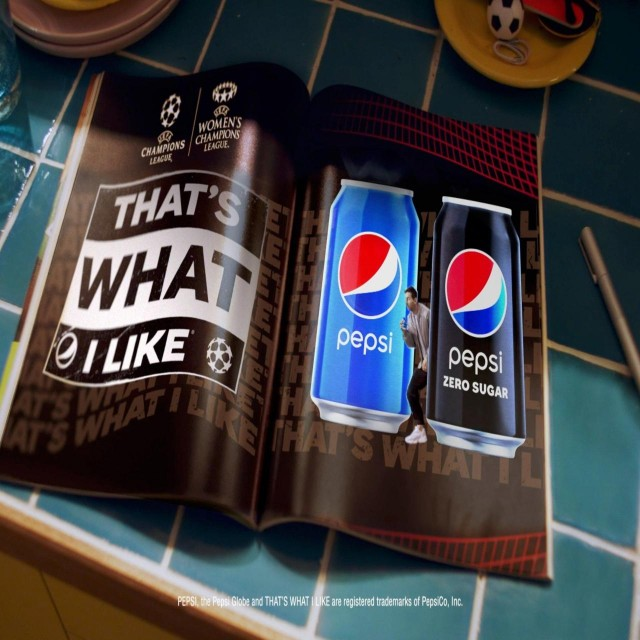pepsi: (445, 247, 509, 338), (338, 233, 404, 317)
